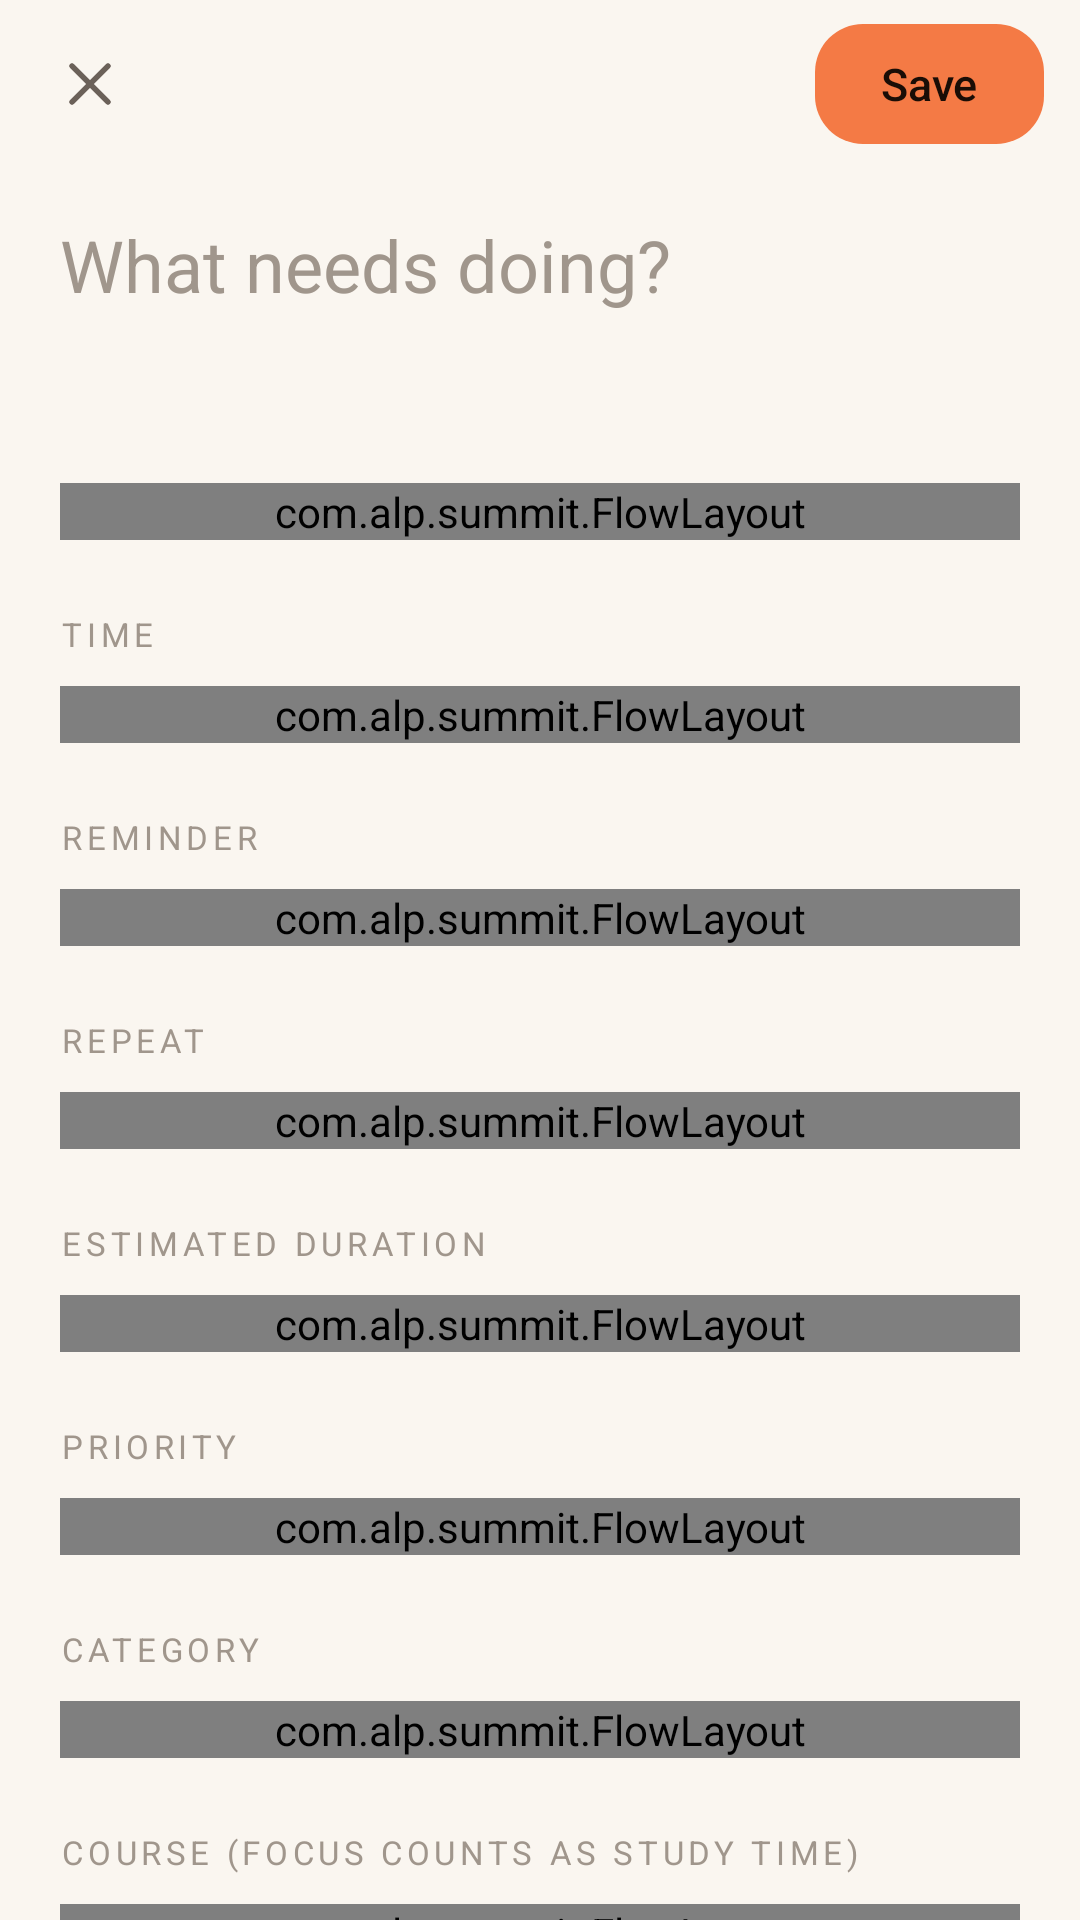

Locate icon controls on the screen. Image size 1080 x 1920, boxes as {"left": x1, "top": y1, "right": x2, "bottom": y2}.
Close: {"left": 69, "top": 63, "right": 111, "bottom": 105}
